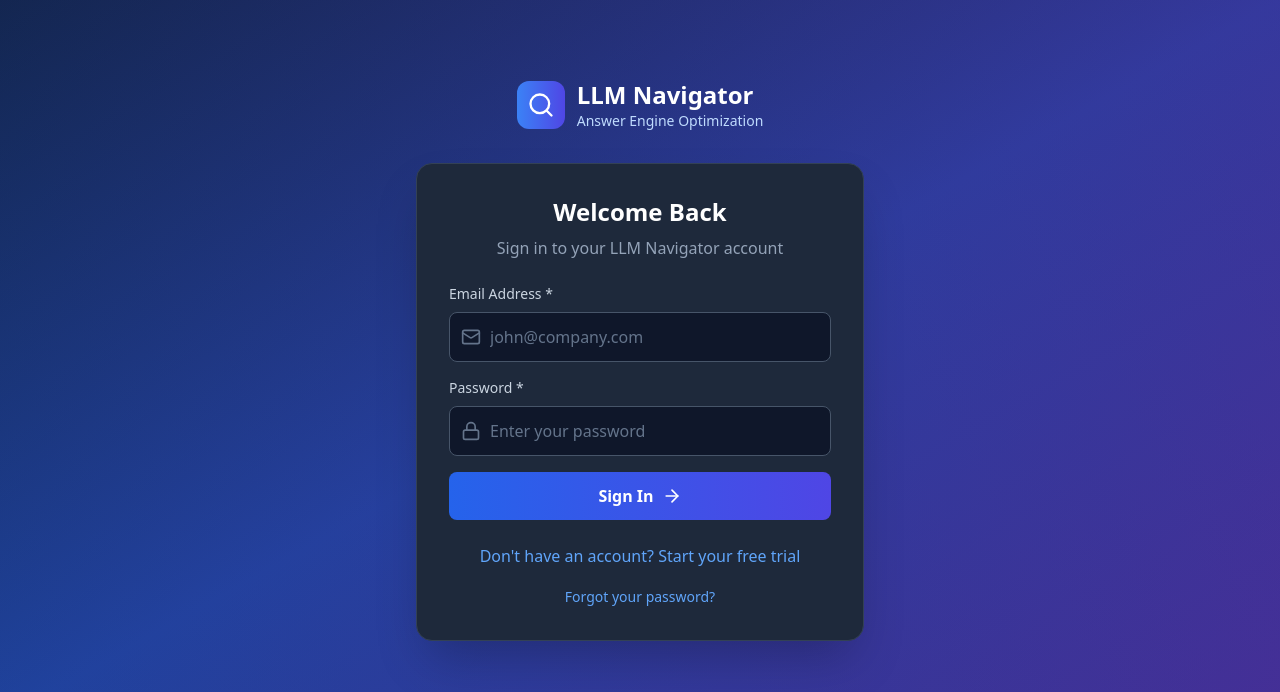
Scenario: AuthPage Component › Signup Mode › should switch to signup mode when toggle clicked
Step 1. Click the button "Don't have an account? Start your free trial" → point(640, 556), box [480,544,800,568]
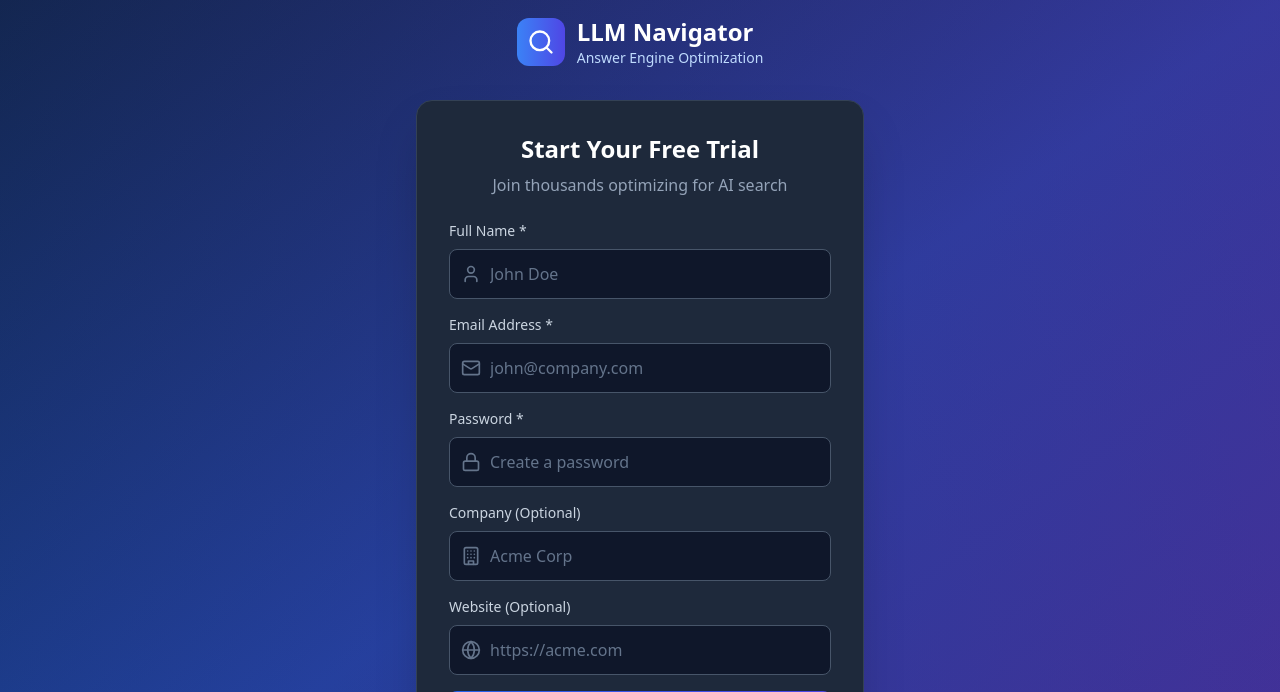
expect the heading "Start Your Free Trial" is shown: met, box [521,132,759,165]
expect the text "Join thousands optimizing for AI search" is shown: met, box [492,174,788,196]
